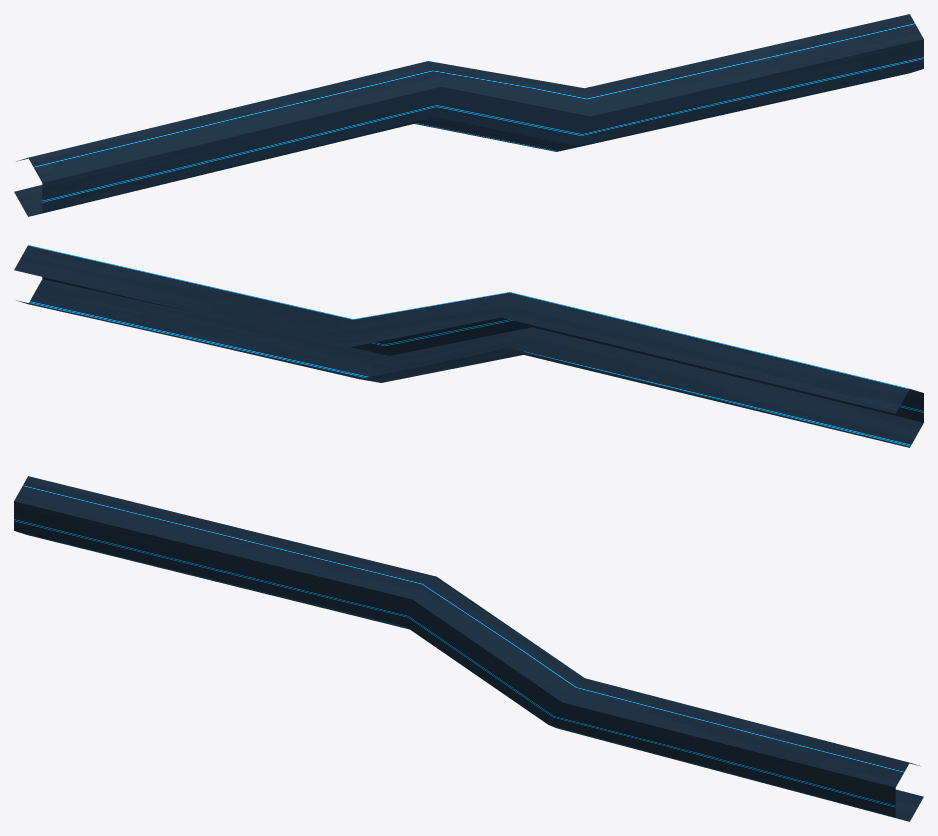
File: Pipe 1 .fbx
The picture shows the model from 3 angles, top to bottom: view 1: azimuth 30°, elevation 25°; view 2: azimuth 150°, elevation 25°; view 3: azimuth 330°, elevation 25°; orthographic projection.
Visible parts, largest first — view 1: pPipe2; view 2: pPipe2; view 3: pPipe2.
Part boxes in pixels (left/top/right/bottom): pPipe2: left=14, top=14, right=923, bottom=216; pPipe2: left=14, top=245, right=923, bottom=447; pPipe2: left=14, top=476, right=923, bottom=821.
Bounding box in the file's own units: 73.99 × 10.48 × 4.12.
